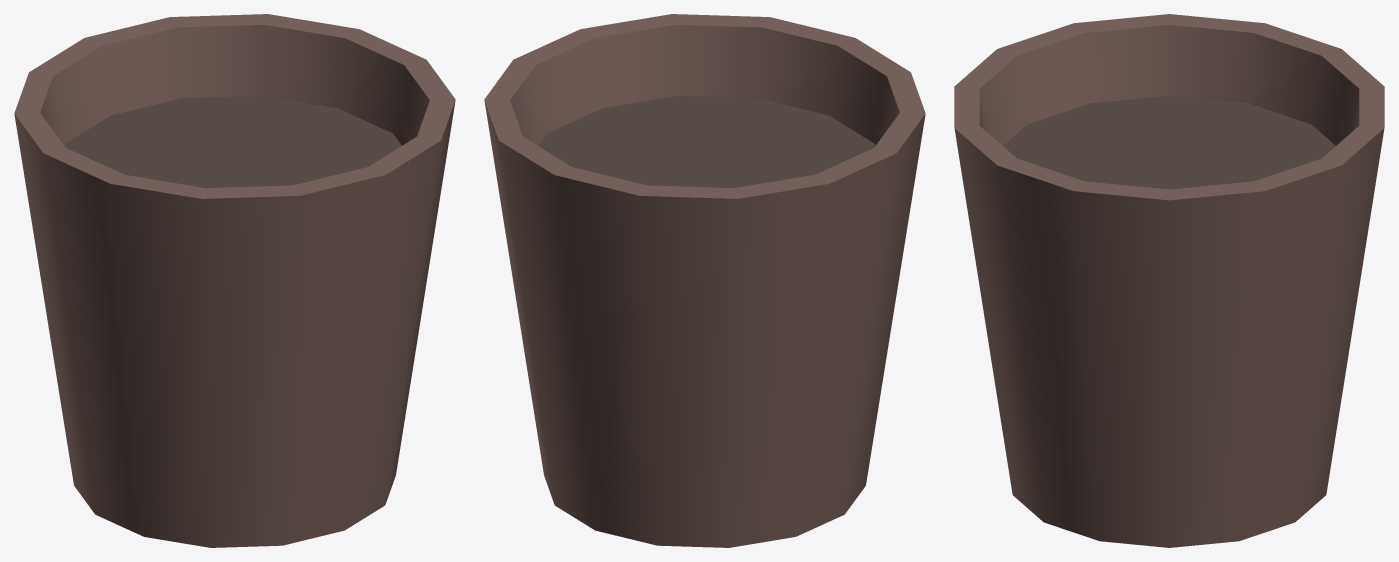
File: fbx_restaurant_flowerpot.fbx
The picture shows the model from 3 angles, left to right: view 1: azimuth 30°, elevation 25°; view 2: azimuth 150°, elevation 25°; view 3: azimuth 270°, elevation 25°; orthographic projection.
Visible parts, largest first — view 1: fbx_restaurant_flowerpot; view 2: fbx_restaurant_flowerpot; view 3: fbx_restaurant_flowerpot.
Part boxes in pixels (x1,y1,x2,y2): fbx_restaurant_flowerpot: (14, 14, 455, 547); fbx_restaurant_flowerpot: (484, 14, 925, 547); fbx_restaurant_flowerpot: (954, 14, 1384, 547).
Bounding box in the file's own units: 1.08 × 1 × 1.05.
Materials: 1 (1 with a texture image).
